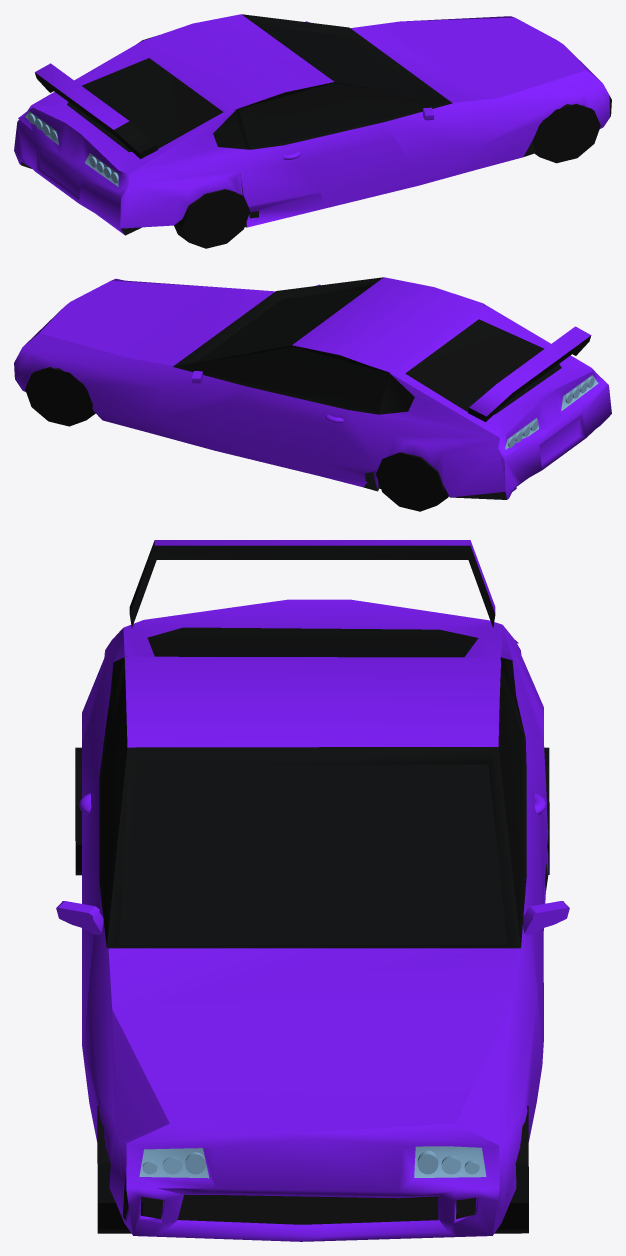
File: toyota supra.fbx
3 renders of one model, top to bottom at view 1: azimuth 30°, elevation 25°; view 2: azimuth 150°, elevation 25°; view 3: azimuth 270°, elevation 25°, orthographic. The views are drawn at different scales.
Visible parts, largest first — view 1: pCube1, pasted__pasted__pasted__pCylinder5, pCube2, pCylinder5; view 2: pCube1, pasted__pasted__pCylinder5, pCube2, pasted__pCylinder5; view 3: pCube1, pCube2, pCube3, pCylinder5, pasted__pCylinder5.
Boxes of the visible parts, <box> form: pCube1: <box>14,14,611,235</box>; pasted__pasted__pasted__pCylinder5: <box>174,189,250,248</box>; pCube2: <box>35,63,157,158</box>; pCylinder5: <box>532,103,600,163</box>; pCube1: <box>14,277,611,499</box>; pasted__pasted__pCylinder5: <box>376,452,448,511</box>; pCube2: <box>468,326,591,421</box>; pasted__pCylinder5: <box>25,367,95,426</box>; pCube1: <box>82,599,548,1241</box>; pCube2: <box>129,540,495,627</box>; pCube3: <box>56,901,569,934</box>; pCylinder5: <box>97,1106,142,1233</box>; pasted__pCylinder5: <box>494,1106,528,1233</box>.
Size of the model in its own units: 10.36 by 2.58 by 4.54.
1 material, 1 textured.
